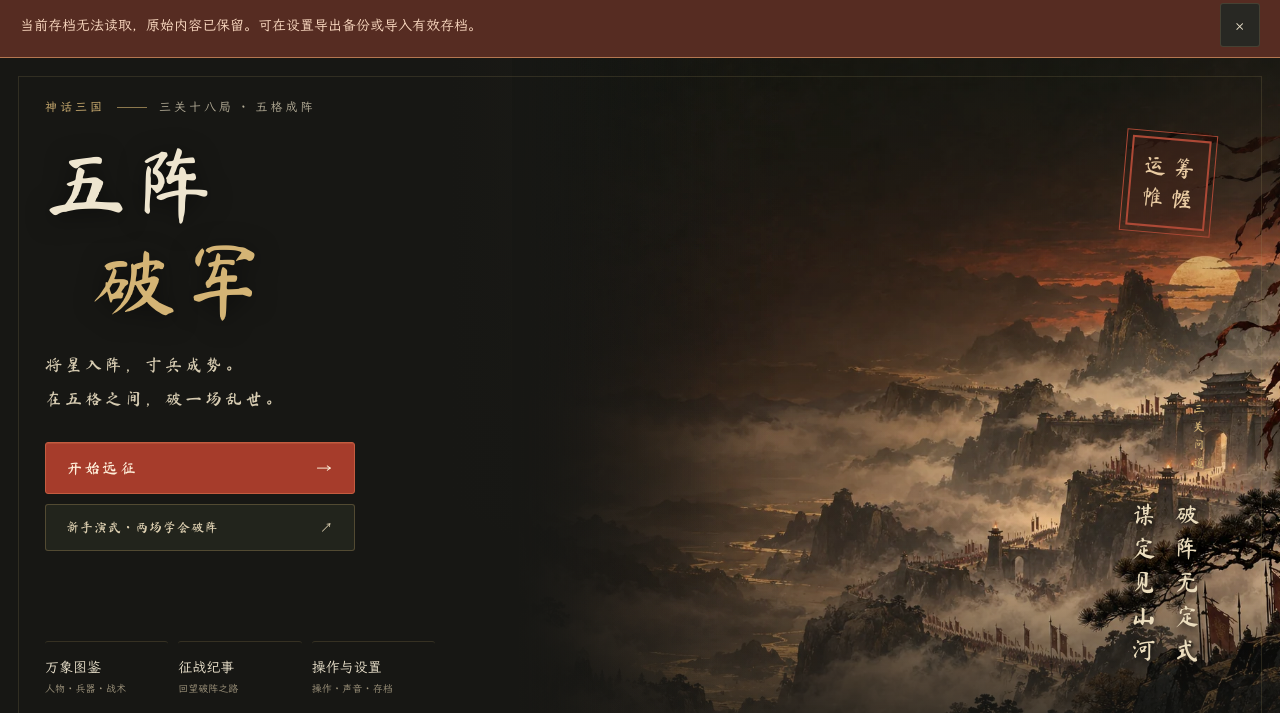
Test: V2 完整游戏界面 › 损坏存档保持原文，并允许前往设置导出
Expected: the message shows "原始内容已保留", [20,16,482,34]
What coordinates should you click on to do the following:
click the button "操作与设置 操作 · 声音 · 存档"
I would click on:
 (373, 676)
Its box is [312,641,435,712].
(page scrolled)
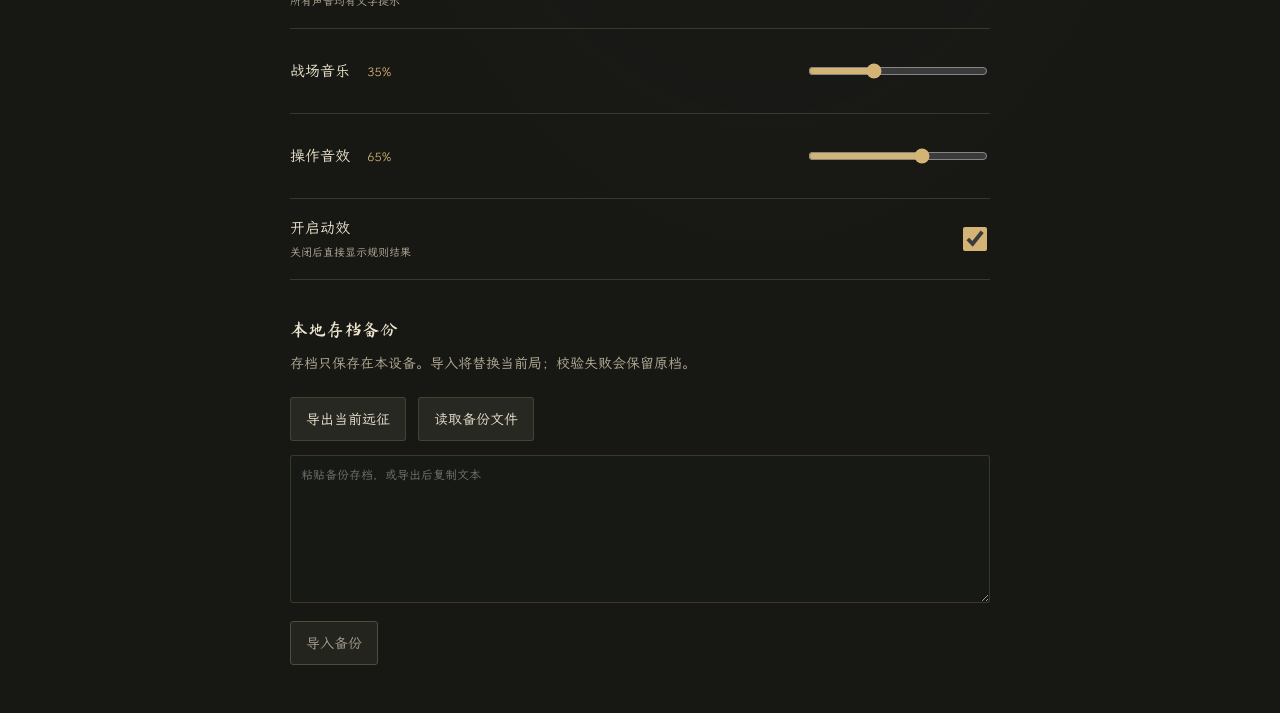
Now the button "导出当前远征" is enabled, box [290,397,406,441]
